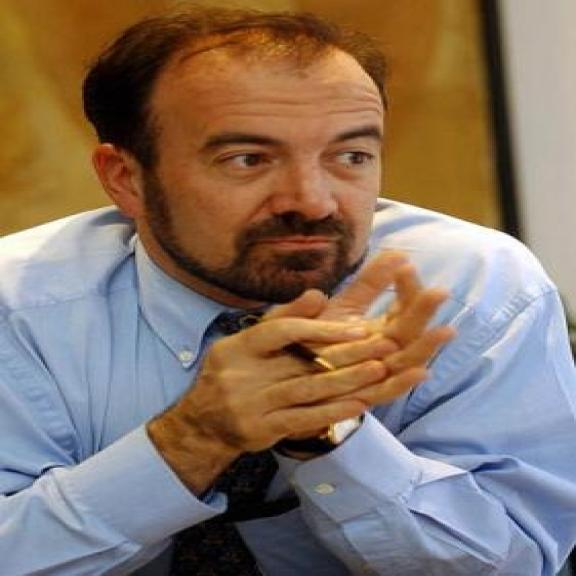face: (92, 31, 390, 306)
